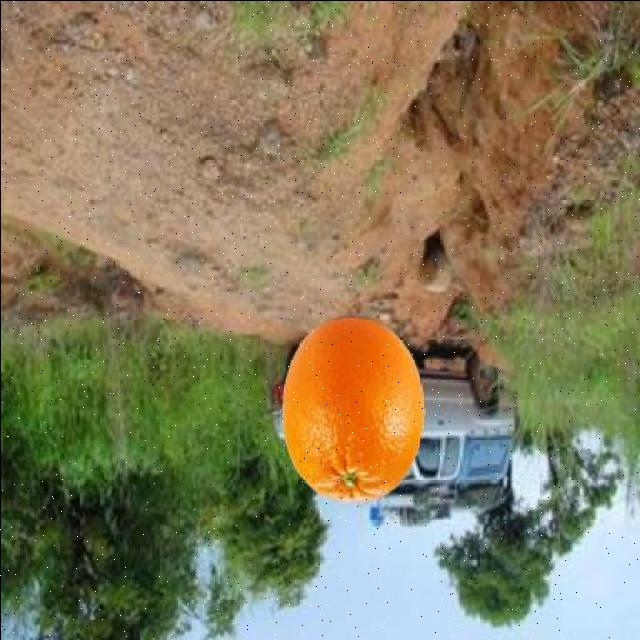Orange: (282, 315, 426, 503)
